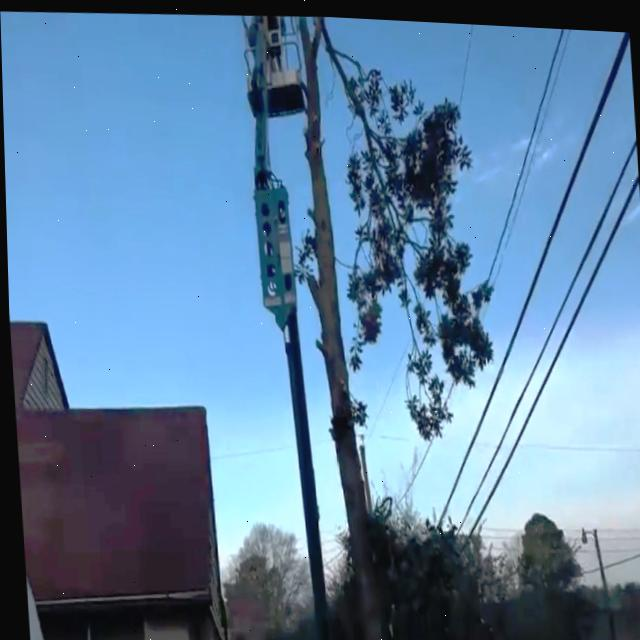obstruction: (346, 60, 491, 436)
wires: (436, 25, 629, 519), (461, 132, 636, 513), (475, 167, 638, 514), (484, 23, 570, 278), (559, 132, 636, 304), (373, 334, 409, 419), (399, 434, 431, 492), (457, 19, 474, 103), (441, 378, 451, 402), (360, 424, 371, 435)
